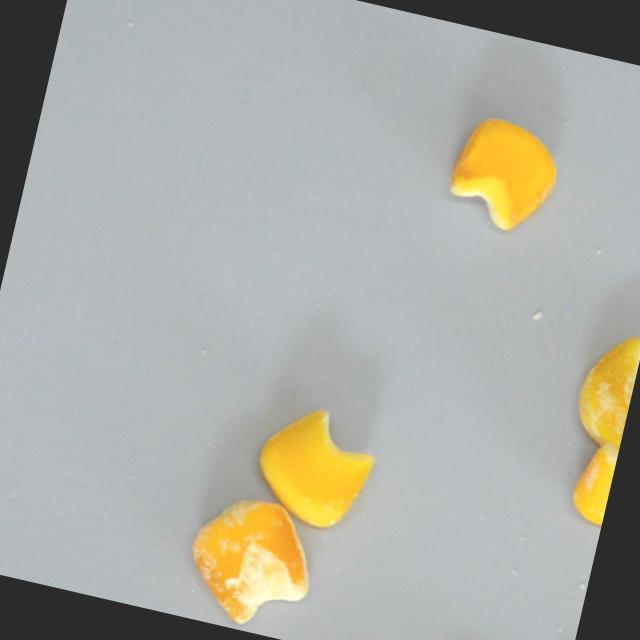pelicula: (176, 487, 325, 636), (247, 396, 383, 536), (443, 109, 569, 239), (568, 326, 640, 451), (566, 438, 619, 527)
